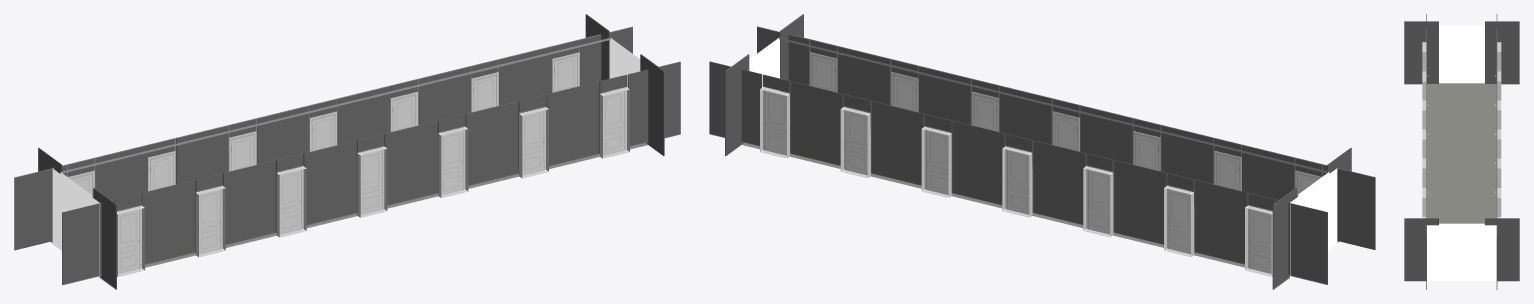
Rendered from corridoor.glb.
The picture shows the model from 3 angles, left to right: view 1: azimuth 30°, elevation 25°; view 2: azimuth 150°, elevation 25°; view 3: azimuth 270°, elevation 25°; orthographic projection. The views are drawn at different scales.
Parts seen in each view (by area): view 1: Cube.004_4, Cube.002_2, Cube_1, Cube.001_0, Cube.003_3, Cube.005_5; view 2: Cube.004_4, Cube.001_0, Cube_1, Cube.002_2, Cube.003_3, Cube.005_5; view 3: Cube_1, Cube.005_5, Cube.001_0, Cube.002_2, Cube.004_4, Cube.003_3.
Part boxes in pixels (x1=…): Cube.004_4: x1=14, y1=26, x2=680, y2=285; Cube.002_2: x1=117, y1=87, x2=629, y2=276; Cube_1: x1=52, y1=34, x2=647, y2=278; Cube.001_0: x1=68, y1=52, x2=579, y2=197; Cube.003_3: x1=67, y1=40, x2=627, y2=211; Cube.005_5: x1=38, y1=14, x2=664, y2=289; Cube.004_4: x1=709, y1=26, x2=1375, y2=284; Cube.001_0: x1=760, y1=87, x2=1272, y2=276; Cube_1: x1=741, y1=34, x2=1337, y2=278; Cube.002_2: x1=810, y1=52, x2=1321, y2=197; Cube.003_3: x1=762, y1=39, x2=1322, y2=211; Cube.005_5: x1=725, y1=14, x2=1351, y2=289; Cube_1: x1=1427, y1=25, x2=1496, y2=281; Cube.005_5: x1=1404, y1=21, x2=1519, y2=281; Cube.001_0: x1=1495, y1=42, x2=1501, y2=218; Cube.002_2: x1=1422, y1=42, x2=1428, y2=218; Cube.004_4: x1=1426, y1=14, x2=1497, y2=289; Cube.003_3: x1=1426, y1=33, x2=1497, y2=217.
Bounding box in the file's own units: 21.15 × 2.78 × 4.63.
7 materials, 1 textured.
